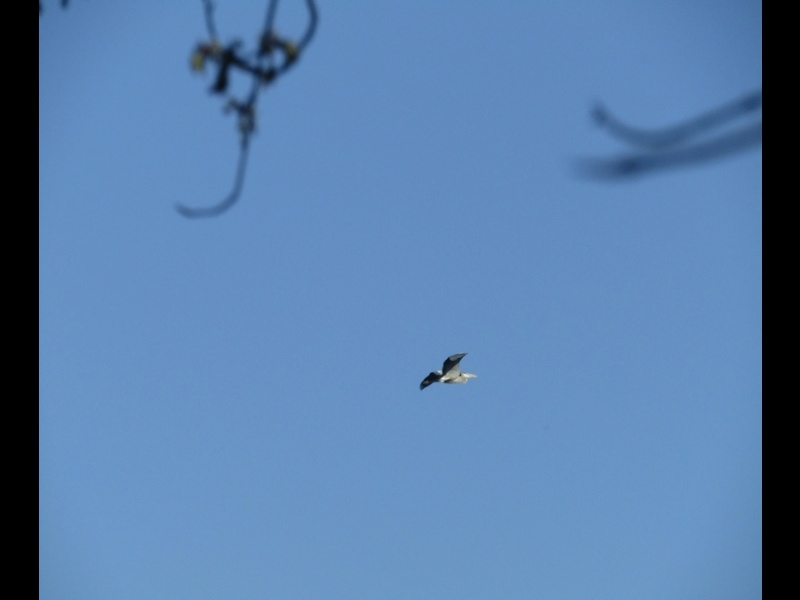heron: (416, 348, 476, 394)
